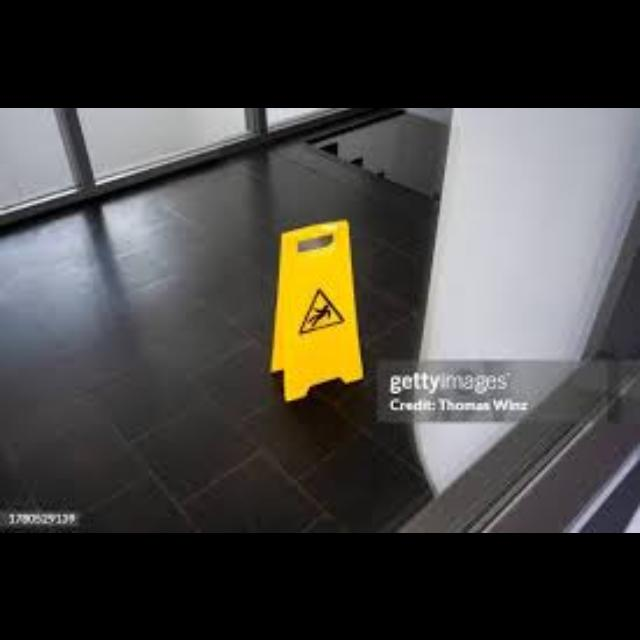tron truot: (270, 219, 361, 400)
